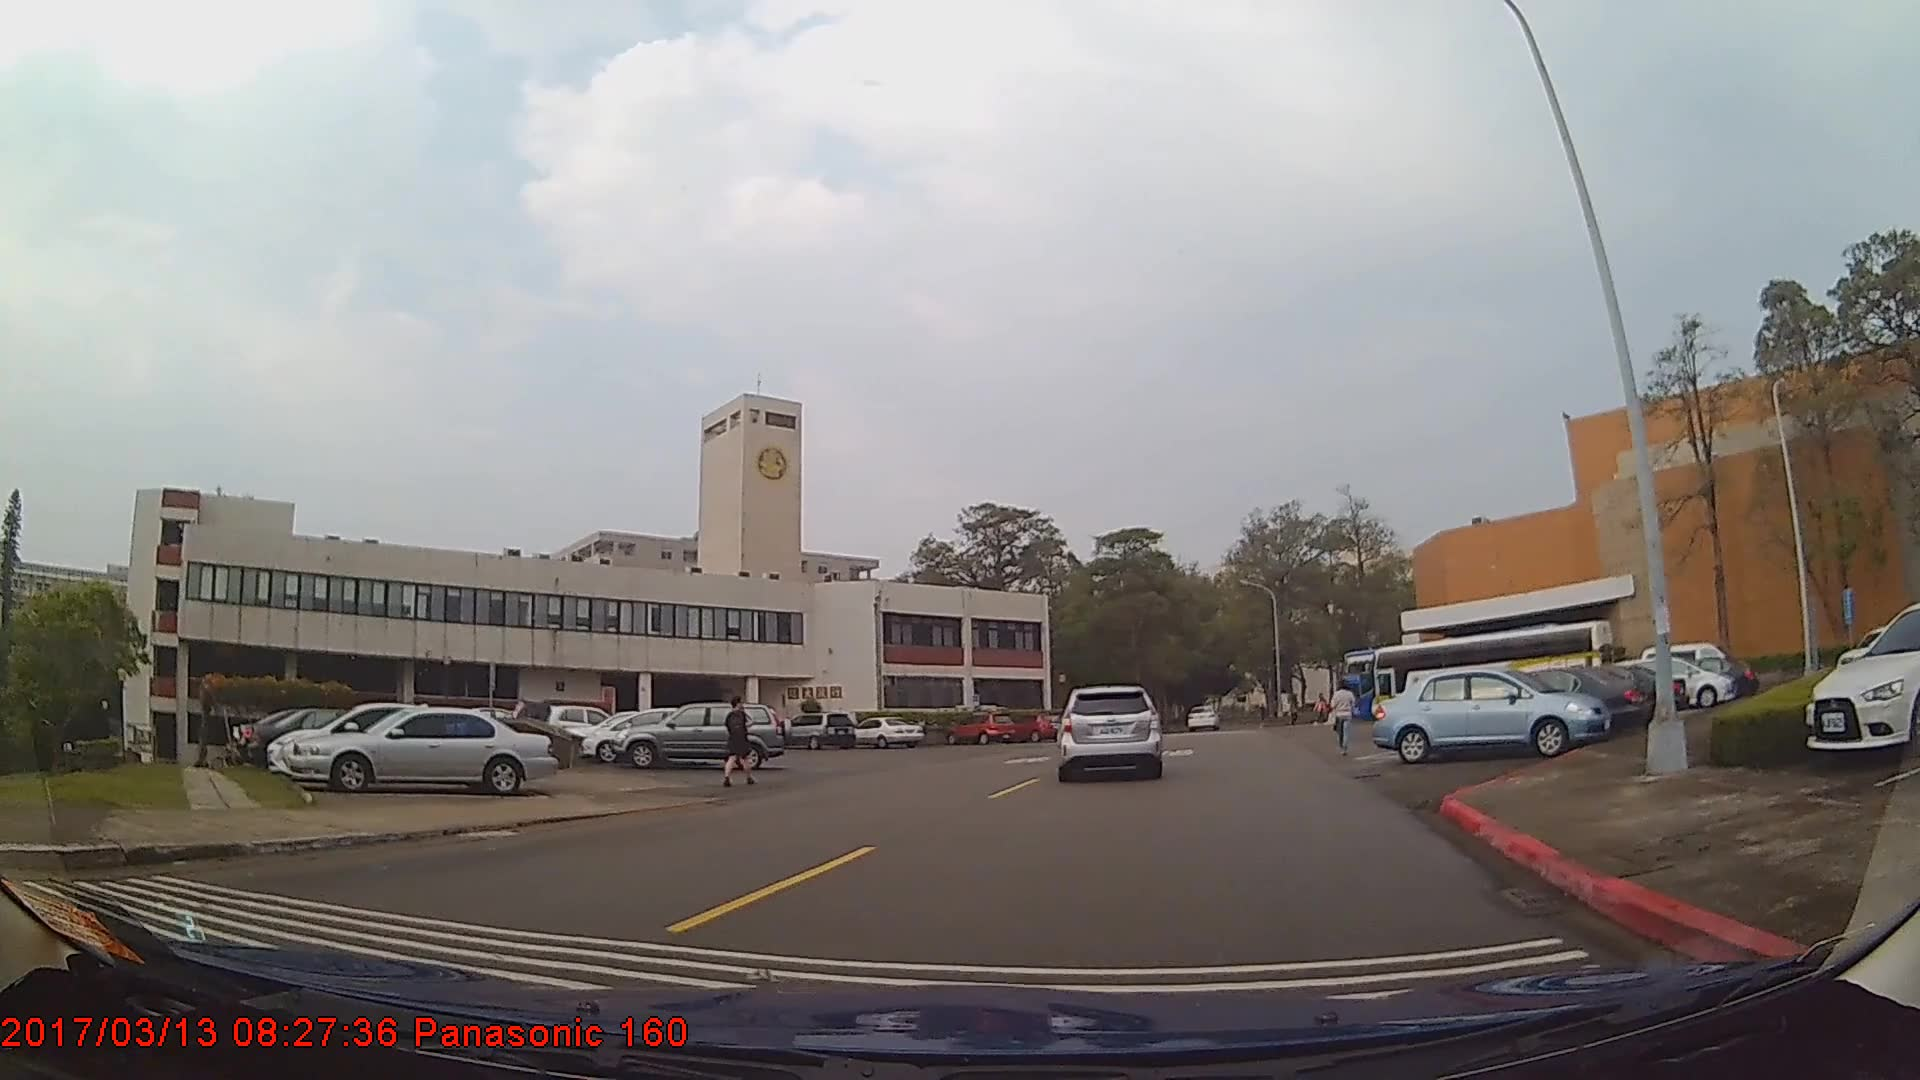pedestrian: (720, 695, 754, 784), (1330, 678, 1360, 755)
vehicle: (286, 705, 561, 794), (1372, 666, 1612, 763), (265, 701, 490, 782), (1805, 602, 1920, 749), (1444, 664, 1652, 735), (610, 700, 794, 767), (246, 704, 436, 767), (1058, 682, 1161, 782), (1513, 664, 1685, 722), (581, 704, 725, 763), (1620, 654, 1738, 709), (545, 700, 626, 747), (781, 710, 856, 752), (945, 708, 1019, 745), (849, 715, 924, 748), (1185, 703, 1221, 731)
